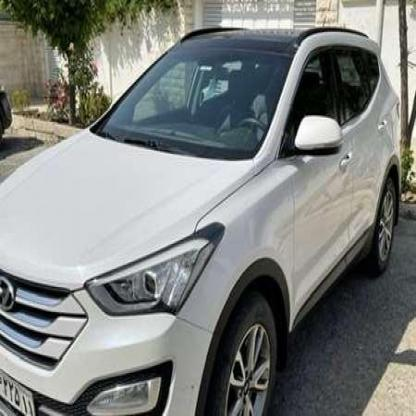Car: (0, 14, 404, 416)
